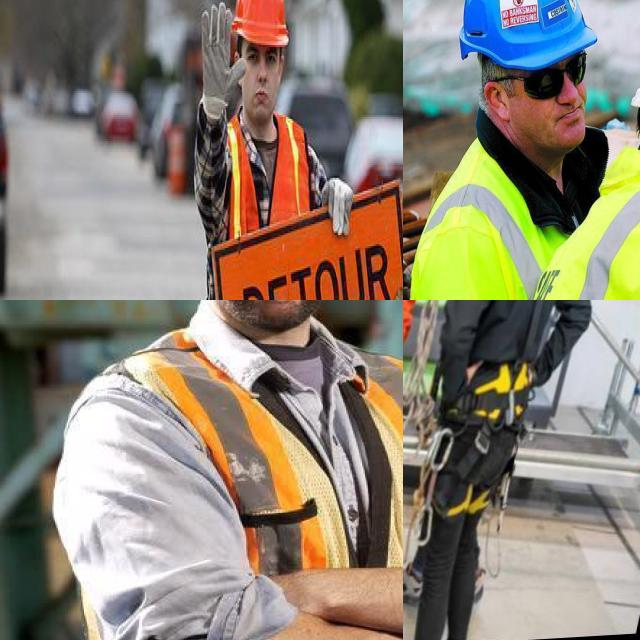Harness: (448, 300, 562, 426)
No_Ear-Protection: (479, 74, 512, 127)
No_Glasses: (243, 44, 281, 76)
face_nomask: (185, 300, 357, 348), (528, 57, 588, 155)
glasses: (520, 48, 590, 101)
hand_glove: (200, 5, 247, 128), (323, 160, 356, 242)
head_helmet: (457, 0, 598, 47), (227, 0, 292, 46)
person: (18, 300, 403, 640), (407, 0, 604, 300), (192, 0, 337, 300), (523, 22, 640, 300)
vest: (133, 316, 403, 640), (407, 128, 545, 300), (513, 143, 640, 300), (227, 111, 309, 300)
